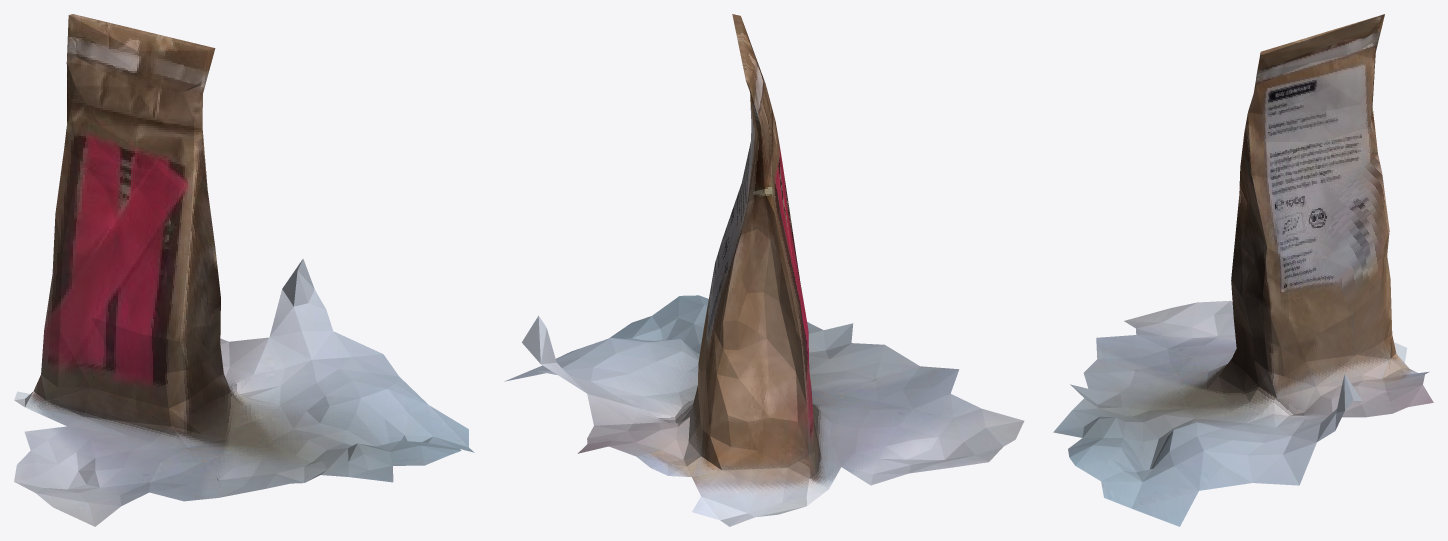
File: 1024-concrete.glb
The picture shows the model from 3 angles, left to right: view 1: azimuth 30°, elevation 25°; view 2: azimuth 150°, elevation 25°; view 3: azimuth 270°, elevation 25°; orthographic projection. The views are drawn at different scales.
Visible parts, largest first — view 1: Mesh_0; view 2: Mesh_0; view 3: Mesh_0.
Part boxes in pixels (<box>): Mesh_0: <box>14,14,474,526</box>; Mesh_0: <box>504,14,1024,526</box>; Mesh_0: <box>1053,14,1433,526</box>.
Bounding box in the file's own units: 0.2317 × 0.21 × 0.1903.
1 material, 1 textured.
